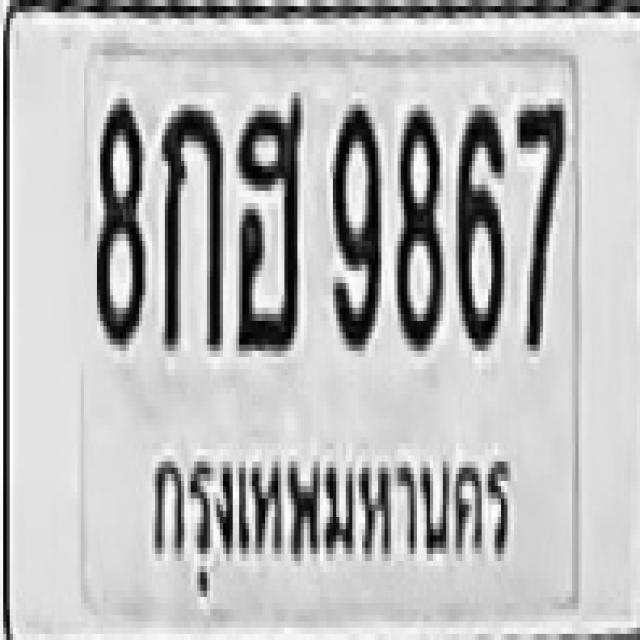10GorGai: (160, 98, 221, 344)
53HorNokHook: (232, 92, 300, 345)
6: (456, 108, 504, 348)
7: (514, 98, 566, 351)
8: (94, 92, 142, 338), (394, 104, 443, 344)
9: (330, 98, 378, 344)
Bangkok: (126, 419, 524, 613)
